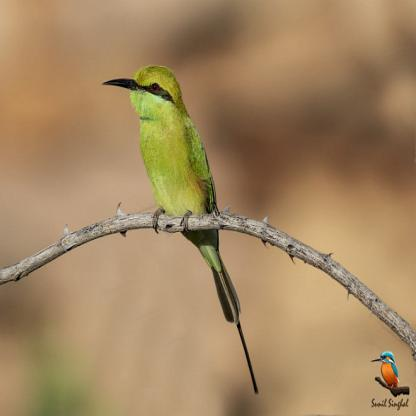Burung: (101, 65, 258, 394)
